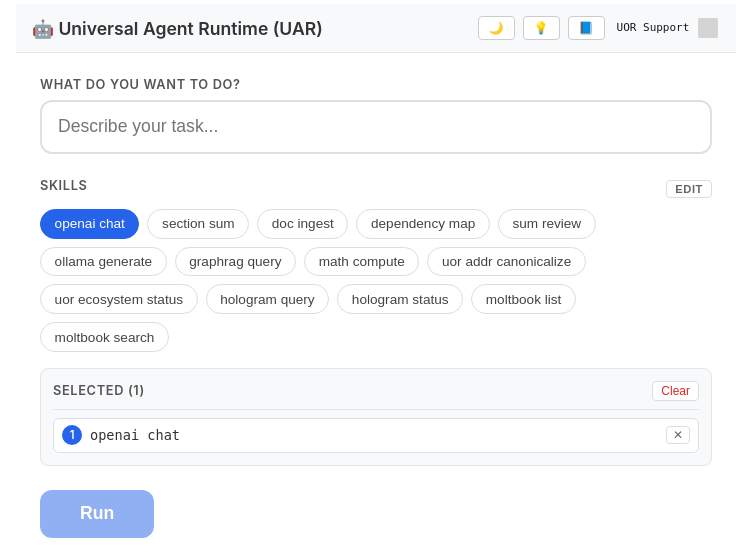
Test: UARSimplePanel › enables run button when goal is entered
Type "test goal" into the field with placeholder "Describe your task..." at (376, 127), box [40,100,712,154]
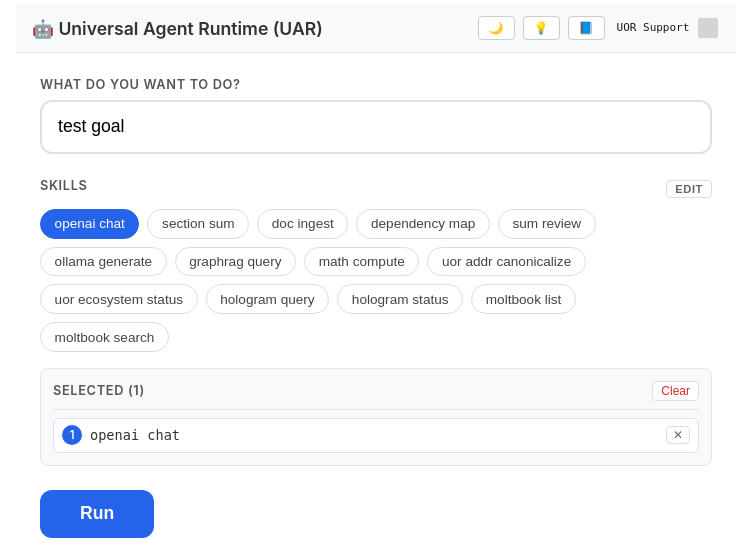
Now the button "Run" is enabled, box [40,490,154,538]
